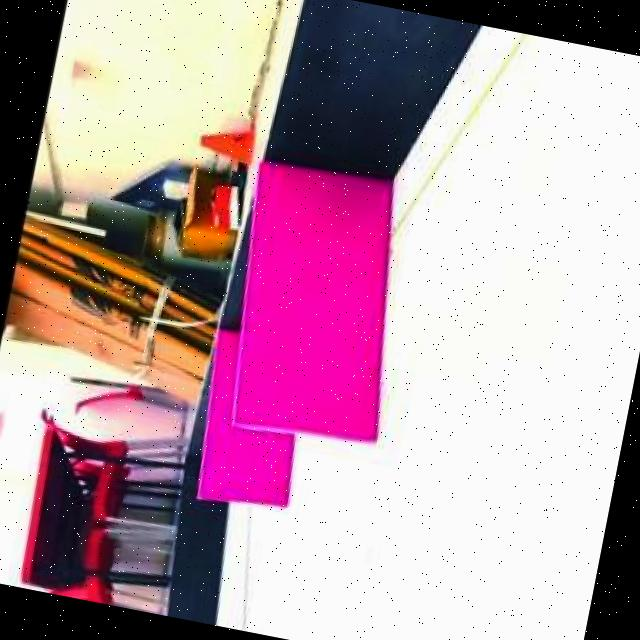xparking: (230, 169, 412, 448), (194, 427, 296, 512)
